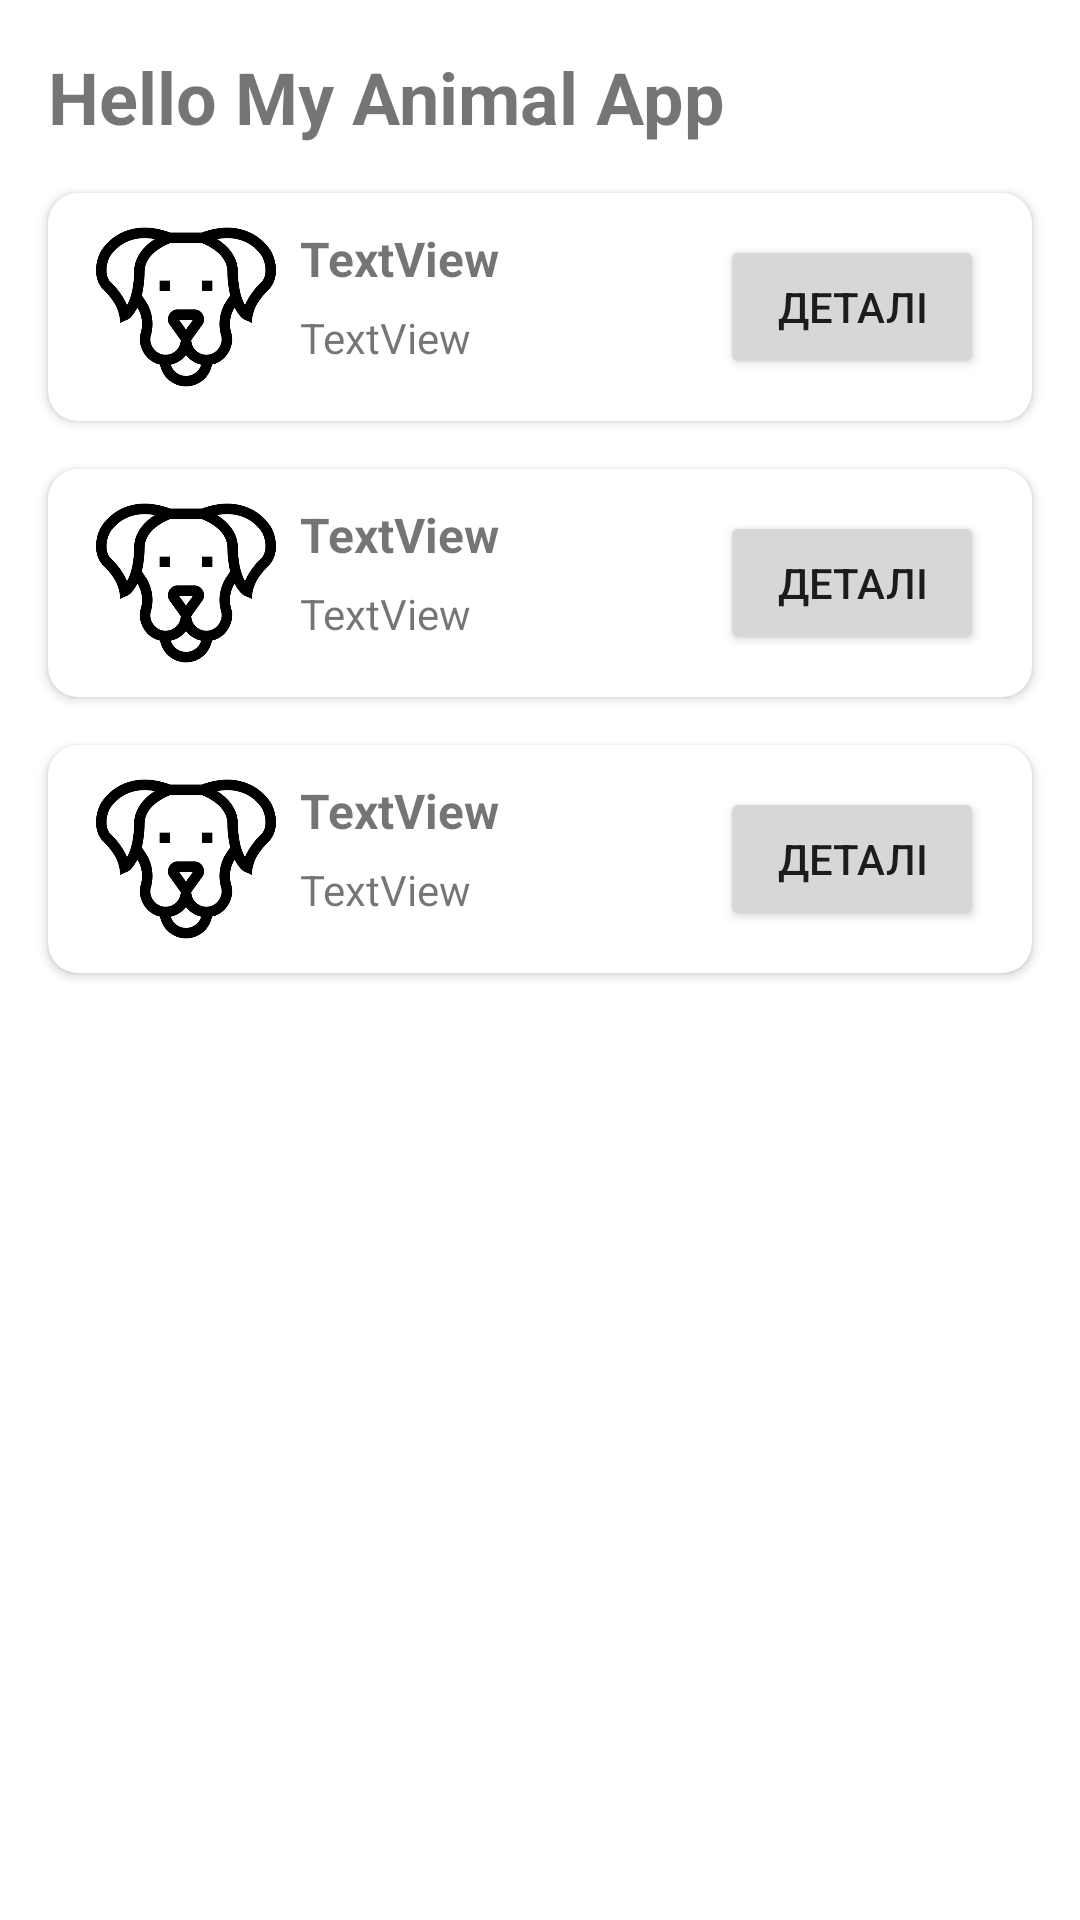

Locate icon controls on the screen. Image size 1080px×1920px, boxes as BBox(x1, y1, x2, y2).
dog: BBox(96, 227, 276, 387), BBox(96, 503, 276, 663), BBox(96, 779, 276, 939)
